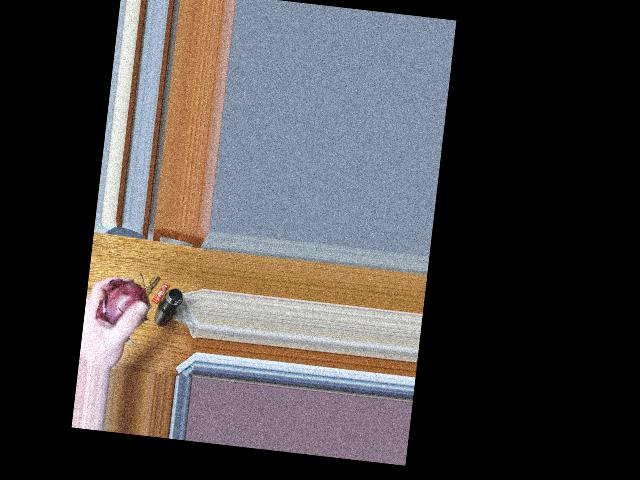onion: (99, 281, 144, 331)
